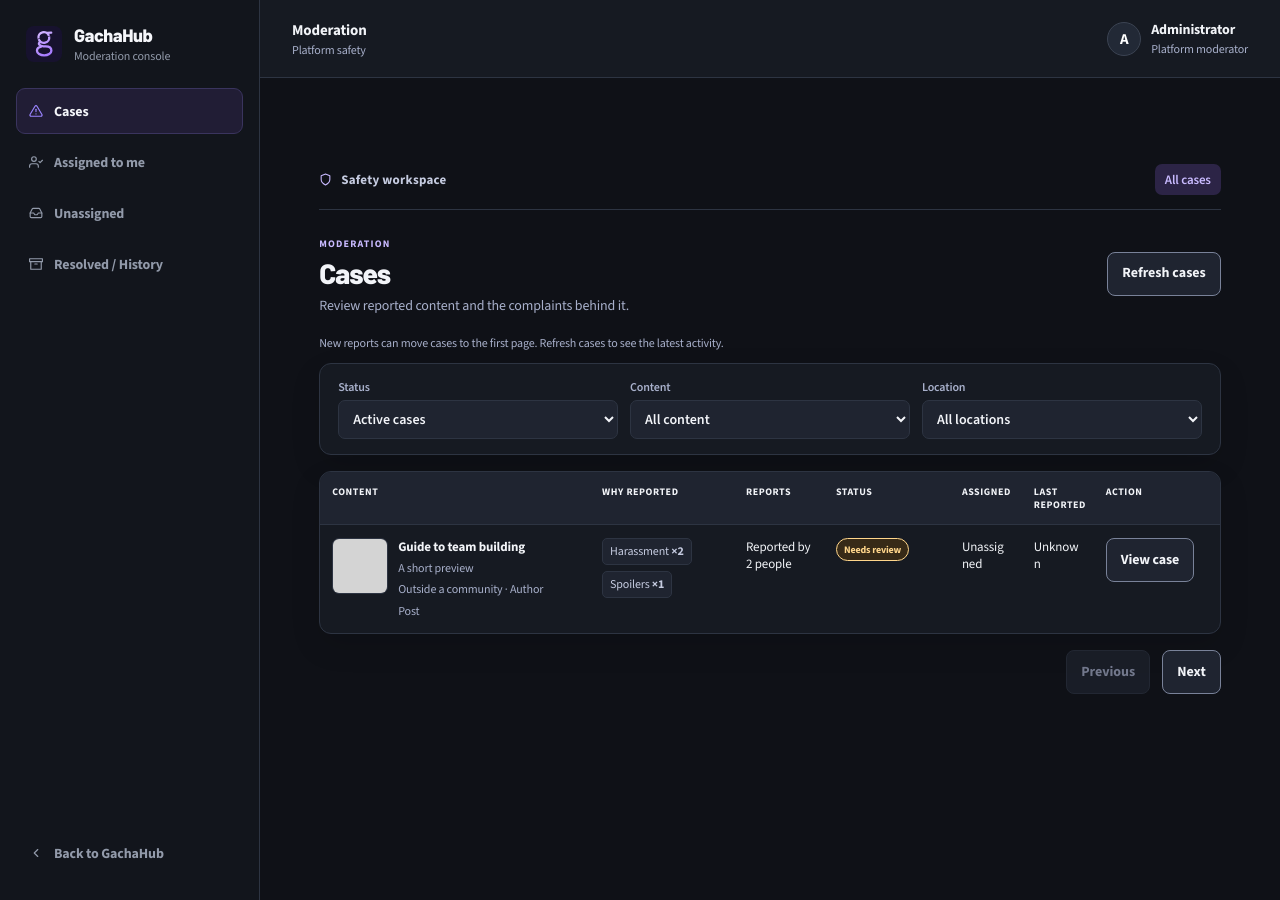
Test: navigates cursor boundaries and the terminal batch in scope
Expected: the text "Guide to team building" is shown, x1=398 y1=538 x2=543 y2=556
Expected: the button "Previous" is disabled, x1=1066 y1=650 x2=1150 y2=694
Click the button "Next". click: (1192, 672)
box: x1=1162 y1=650 x2=1221 y2=694
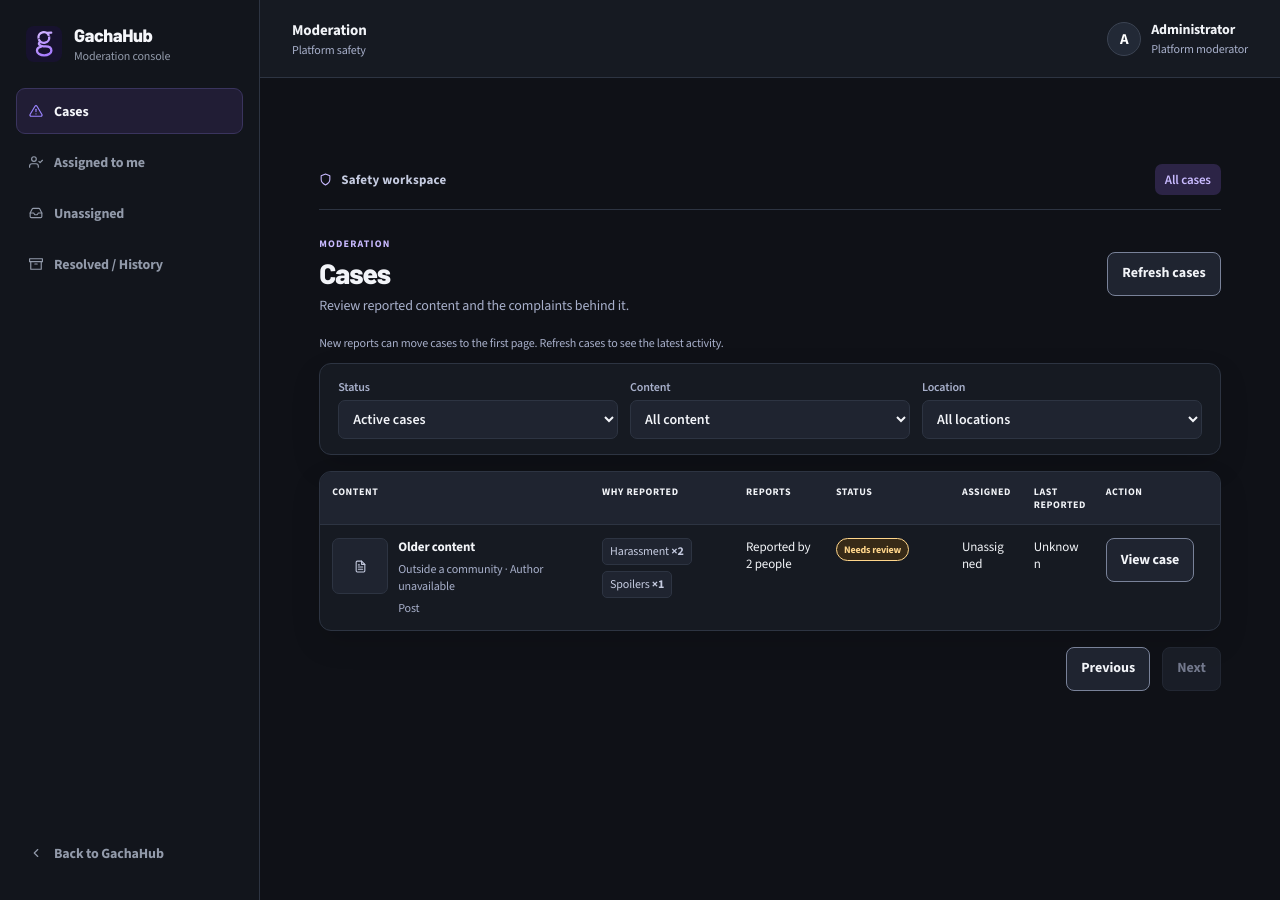
Result: the text "Older content" is shown at x1=398 y1=538 x2=475 y2=555
Result: the button "Next" is disabled at x1=1162 y1=647 x2=1221 y2=691
Result: the text "Guide to team building" is gone
Click the button "Previous". click: (1108, 669)
box: x1=1066 y1=647 x2=1150 y2=691
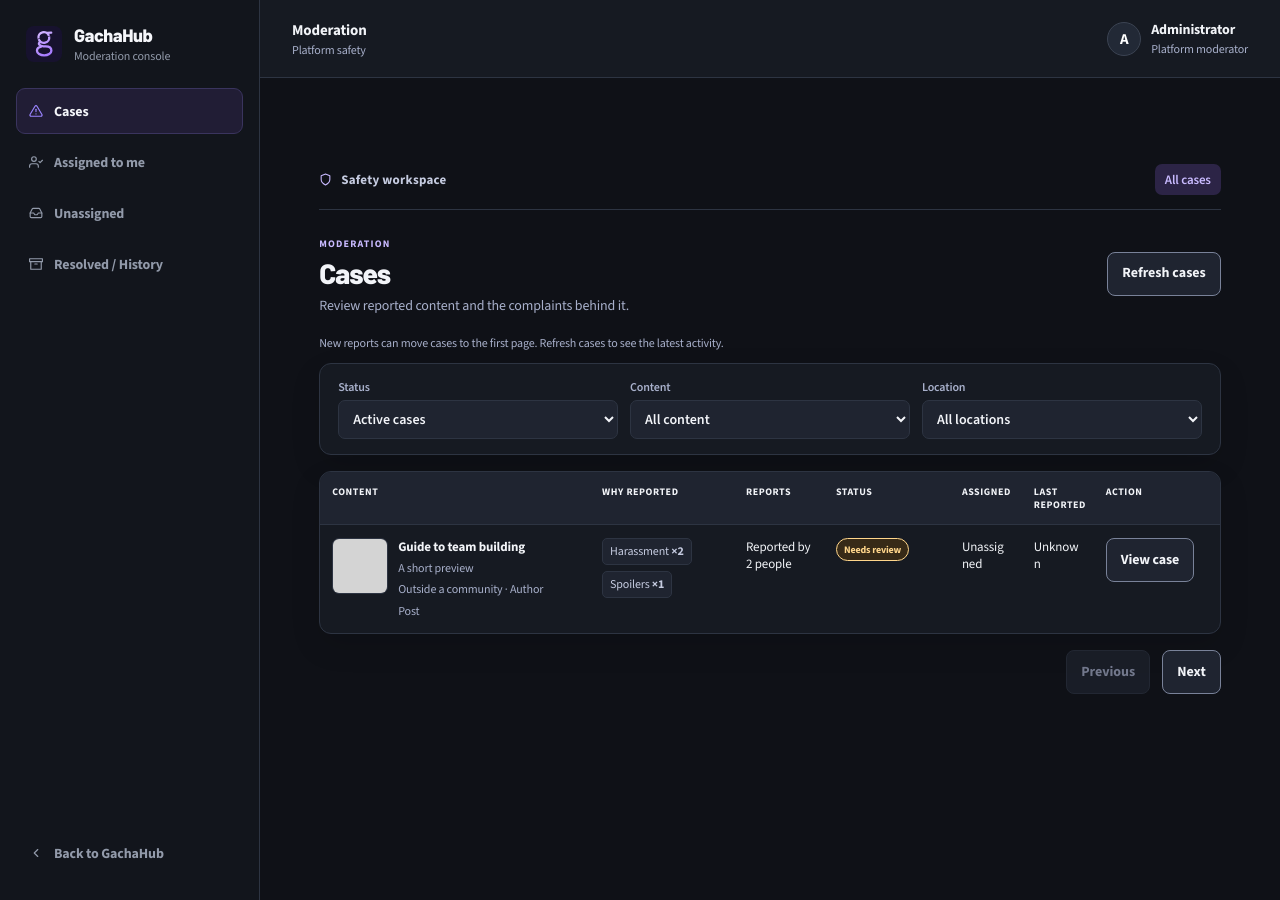
Result: the text "Guide to team building" is shown at x1=398 y1=538 x2=543 y2=556
Click the button "Next". click: (1192, 672)
box: x1=1162 y1=650 x2=1221 y2=694
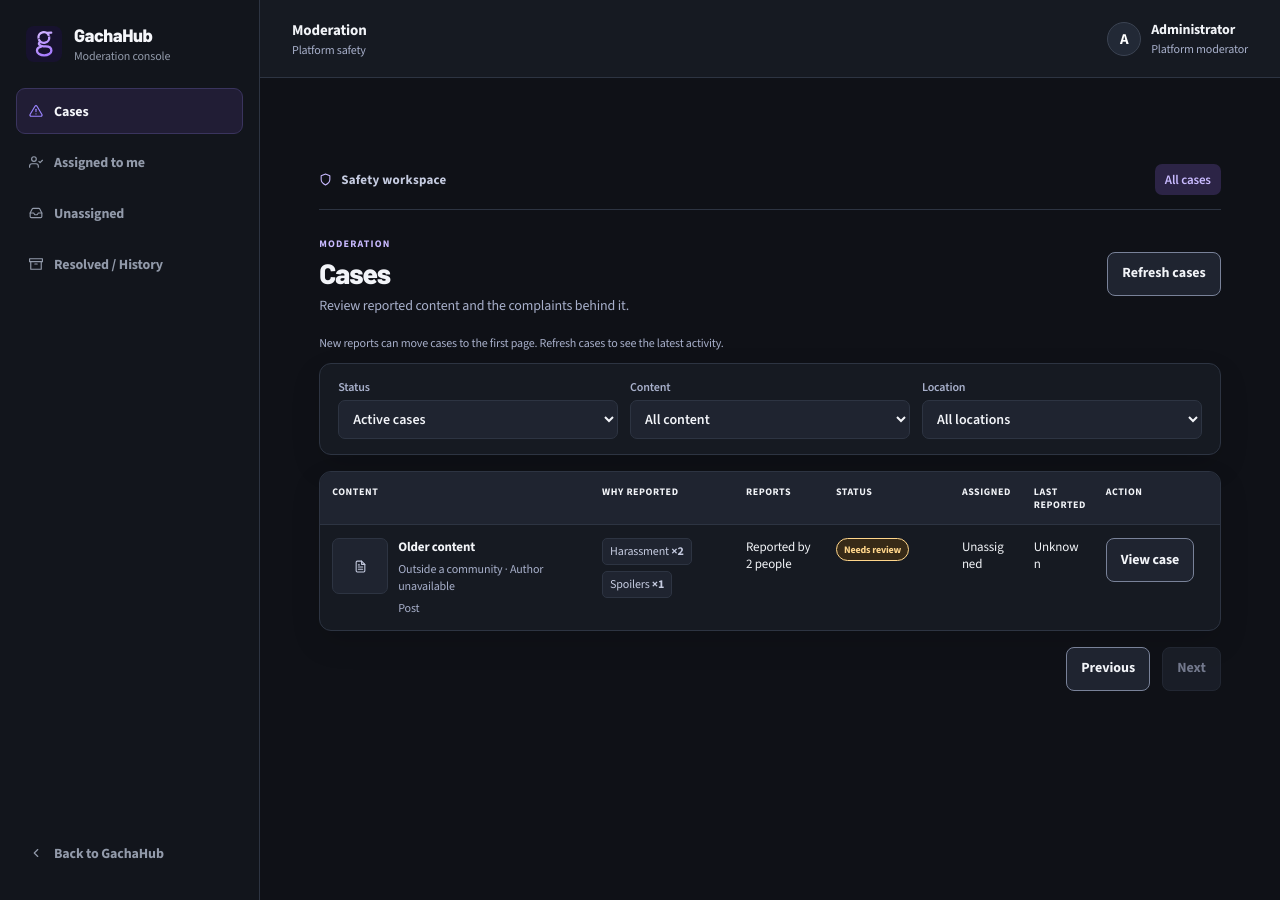
Result: the text "Older content" is shown at x1=398 y1=538 x2=475 y2=555
Select "Comment" in the dropdown named "Content type". click: (770, 420)
box: x1=630 y1=400 x2=910 y2=439
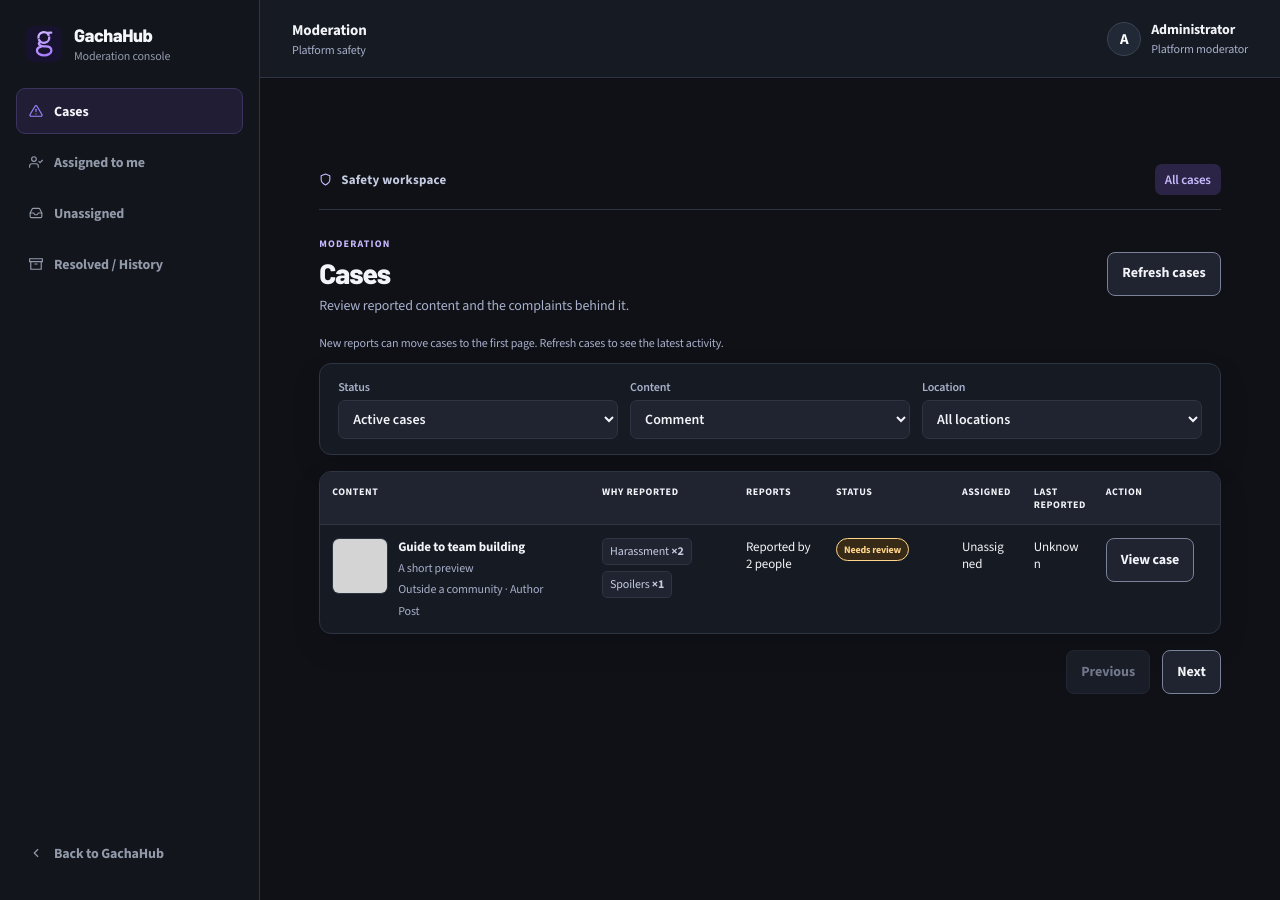
Result: the button "Previous" is disabled at x1=1066 y1=650 x2=1150 y2=694
